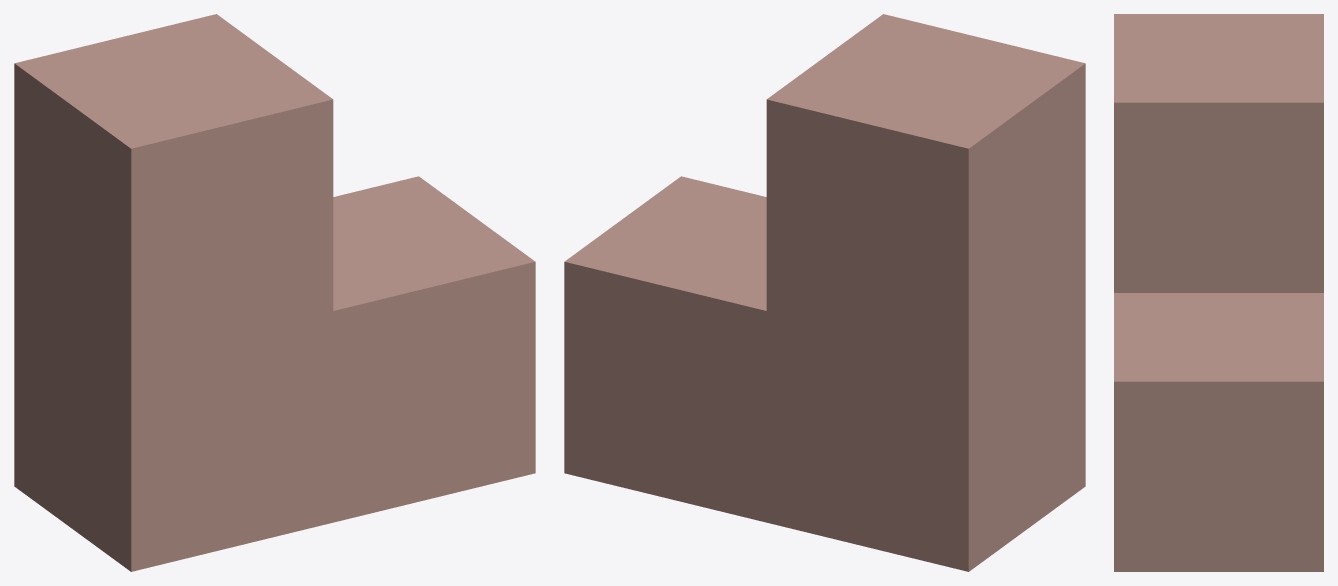
The model's file is scar_cheek_slash.glb.
3 renders of one model, left to right at view 1: azimuth 30°, elevation 25°; view 2: azimuth 150°, elevation 25°; view 3: azimuth 270°, elevation 25°, orthographic. The views are drawn at different scales.
Parts seen in each view (by area): view 1: scar_cheek_slash; view 2: scar_cheek_slash; view 3: scar_cheek_slash.
Boxes of the visible parts, <box> form: scar_cheek_slash: <box>14,14,535,571</box>; scar_cheek_slash: <box>564,14,1085,571</box>; scar_cheek_slash: <box>1114,14,1323,571</box>.
Bounding box in the file's own units: 2 × 2 × 1.
